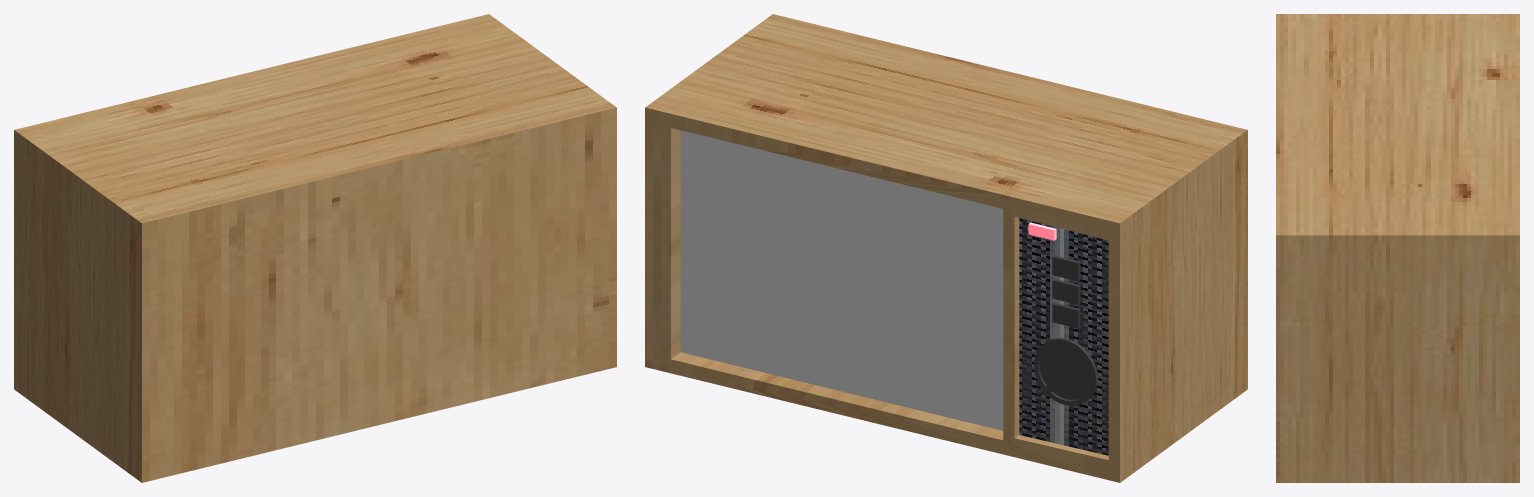
The picture shows the model from 3 angles, left to right: view 1: azimuth 30°, elevation 25°; view 2: azimuth 150°, elevation 25°; view 3: azimuth 270°, elevation 25°; orthographic projection. The views are drawn at different scales.
Parts seen in each view (by area): view 1: TV; view 2: TV, RotationBtn; view 3: TV.
Part boxes in pixels (bbox=[...]): TV: bbox=[14, 14, 616, 482]; TV: bbox=[645, 14, 1247, 482]; RotationBtn: bbox=[1034, 338, 1097, 405]; TV: bbox=[1276, 14, 1519, 482].
Size of what is drawn, in the model's own units: 2 by 1.04 by 0.932.
5 materials, 2 textured.
